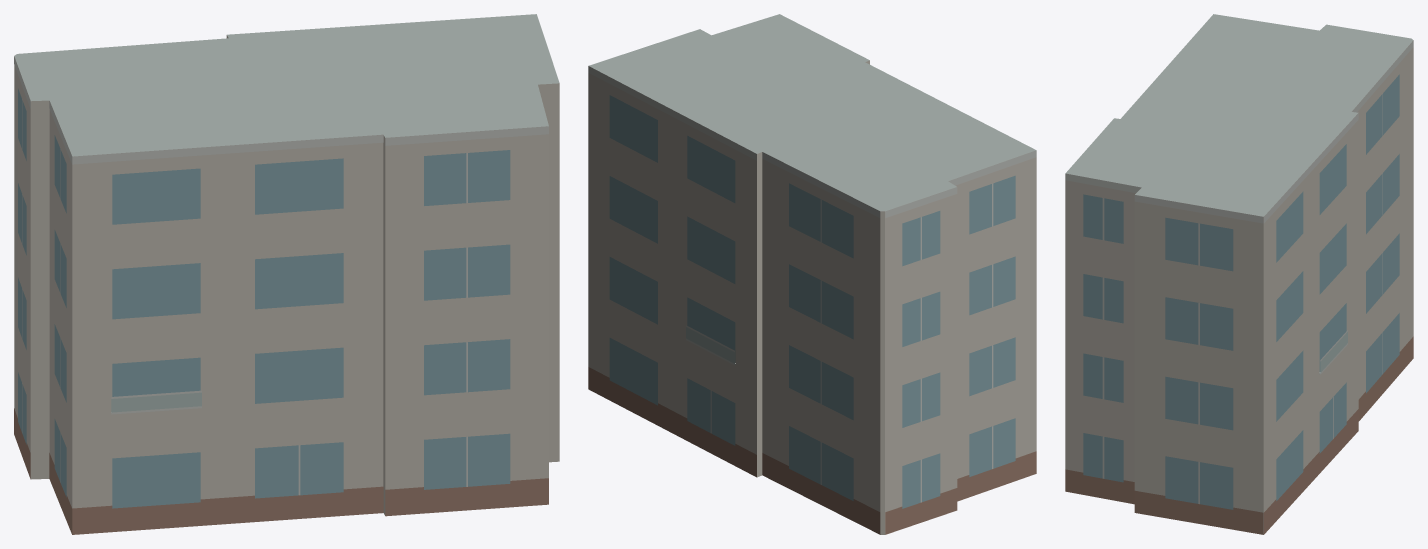
The model's file is survey-upis-32779567.glb.
3 renders of one model, left to right at view 1: azimuth 30°, elevation 25°; view 2: azimuth 150°, elevation 25°; view 3: azimuth 270°, elevation 25°, orthographic. The views are drawn at different scales.
Visible parts, largest first — view 1: survey-upis-32779567.tmp; view 2: survey-upis-32779567.tmp; view 3: survey-upis-32779567.tmp.
Boxes of the visible parts, bbox=[...] form: survey-upis-32779567.tmp: bbox=[14, 14, 559, 534]; survey-upis-32779567.tmp: bbox=[588, 14, 1036, 534]; survey-upis-32779567.tmp: bbox=[1065, 14, 1413, 534].
Bounding box in the file's own units: 15.67 × 11.45 × 11.37.
